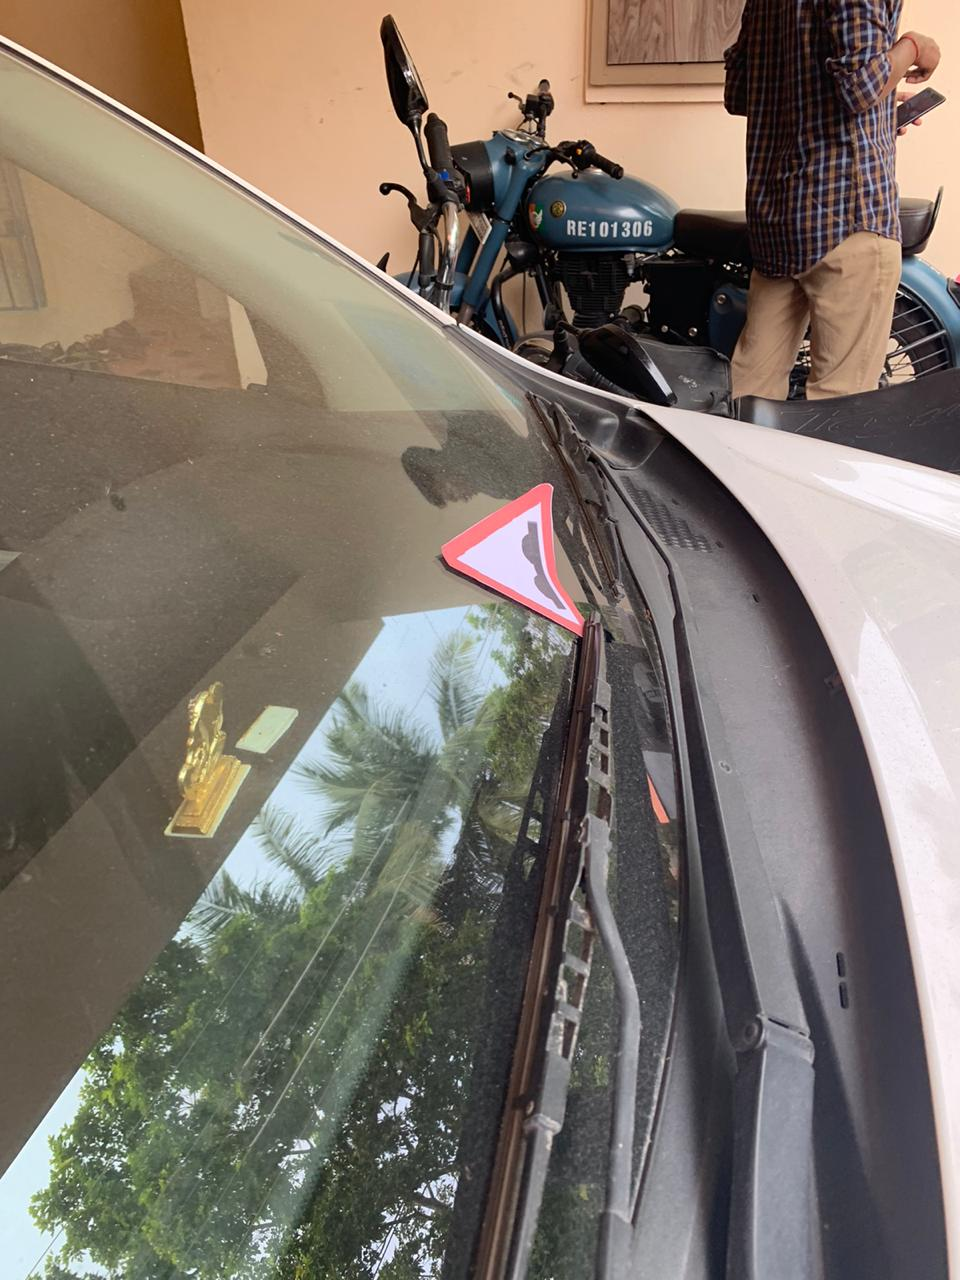UNEVEN ROAD: (418, 437, 610, 652)
